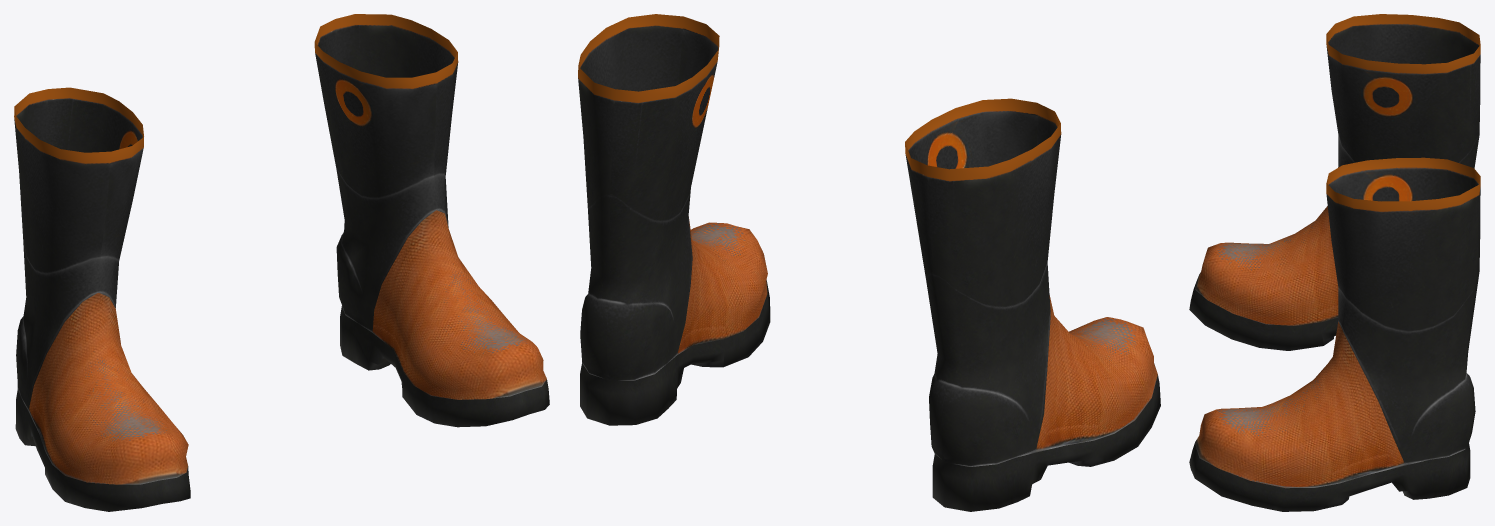
Rendered from STC_mining_boot.FBX.
The picture shows the model from 3 angles, left to right: view 1: azimuth 30°, elevation 25°; view 2: azimuth 150°, elevation 25°; view 3: azimuth 270°, elevation 25°; orthographic projection. The views are drawn at different scales.
Visible parts, largest first — view 1: M_Boot_LR; view 2: M_Boot_LR; view 3: M_Boot_LR.
Part boxes in pixels (<box>): M_Boot_LR: <box>14,14,549,511</box>; M_Boot_LR: <box>578,14,1160,511</box>; M_Boot_LR: <box>1189,14,1480,511</box>.
Bounding box in the file's own units: 52.64 × 34.59 × 30.46.
Materials: 1 (1 with a texture image).
